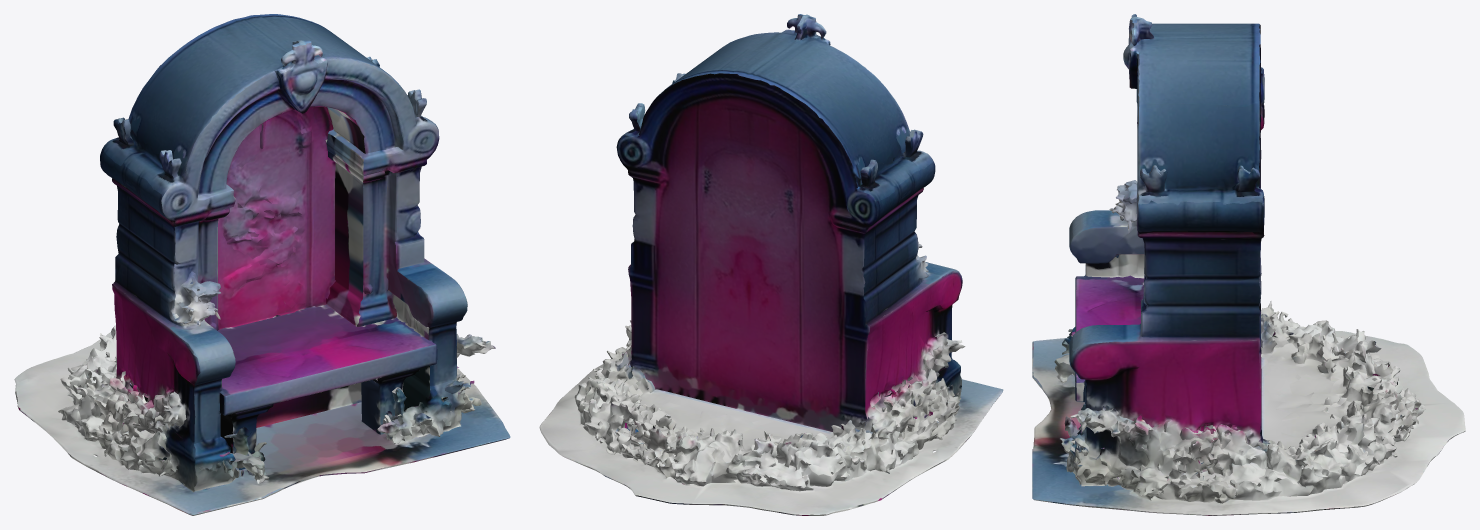
The model's file is bench-growth-generated-2026-05-17T18-58-08-187Z.high.glb.
The picture shows the model from 3 angles, left to right: view 1: azimuth 30°, elevation 25°; view 2: azimuth 150°, elevation 25°; view 3: azimuth 270°, elevation 25°; orthographic projection. The views are drawn at different scales.
Visible parts, largest first — view 1: temp_mesh.ply; view 2: temp_mesh.ply; view 3: temp_mesh.ply.
Part boxes in pixels (x1,y1,x2,y2): temp_mesh.ply: (14, 14, 510, 515); temp_mesh.ply: (539, 14, 1003, 515); temp_mesh.ply: (1032, 14, 1465, 515).
Size of the model in its own units: 1.97 by 1.98 by 1.91.
1 material, 1 textured.
